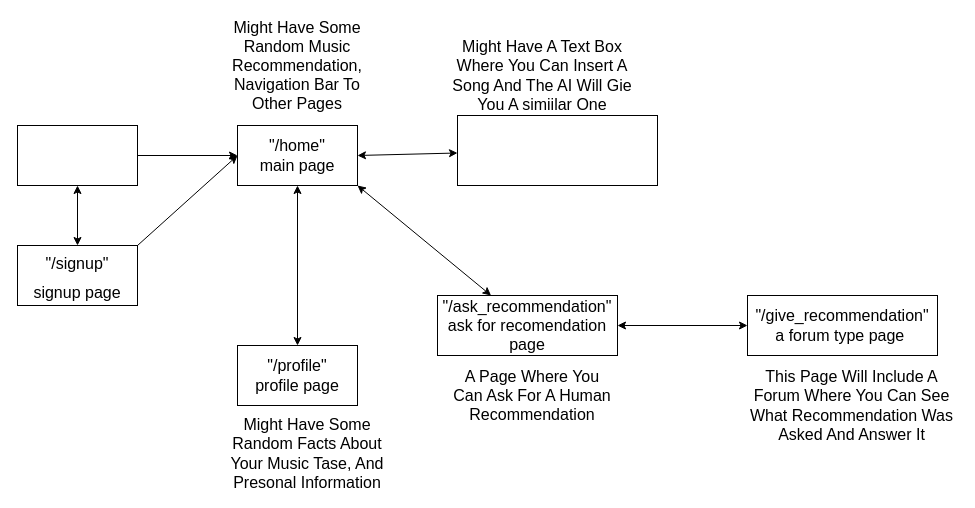
This 975x508 diagram has some shape labels left out. Each missing label, with the box of its shape:
"/" Login page: (16, 124, 138, 186)
"/ai_recommendation" ai Recommendation page: (456, 114, 658, 186)
